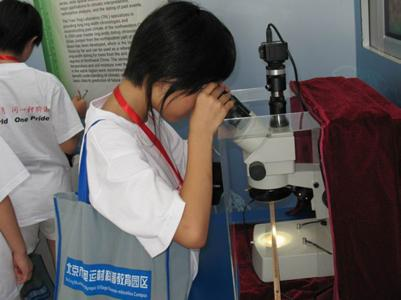person: (80, 2, 238, 300)
